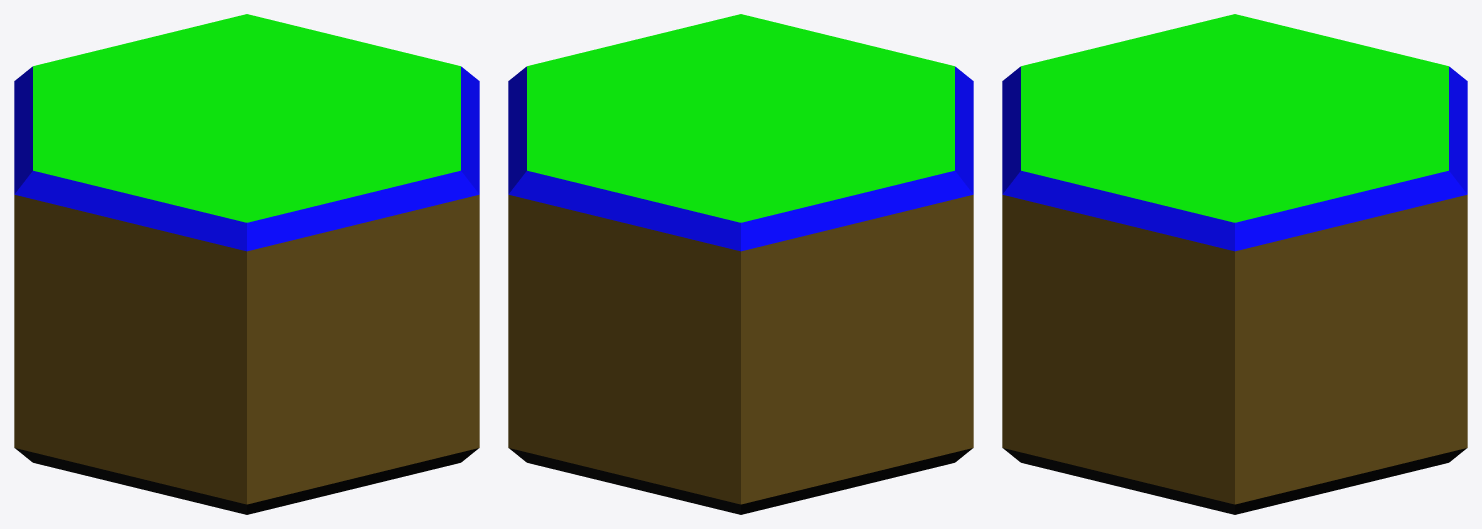
File: Hex(h_60).fbx
3 views of the same model, side by side, from view 1: azimuth 30°, elevation 25°; view 2: azimuth 150°, elevation 25°; view 3: azimuth 270°, elevation 25° (orthographic).
Parts seen in each view (by area): view 1: Hex; view 2: Hex; view 3: Hex.
Part boxes in pixels (x1,y1,x2,y2): Hex: (14,14,479,514); Hex: (508,14,973,514); Hex: (1002,14,1467,514).
Size of the model in its own units: 100 by 60 by 86.6.
